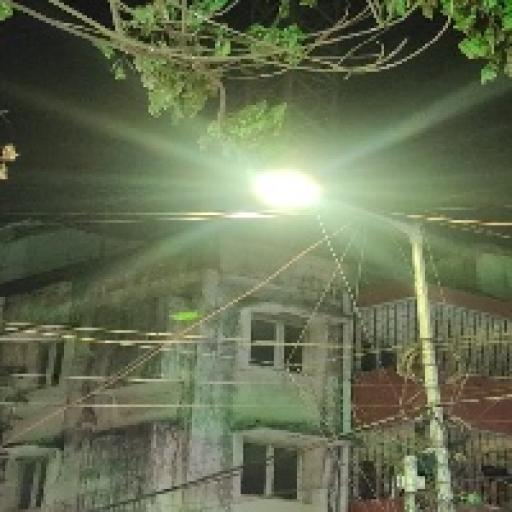Working: (226, 148, 354, 234)
